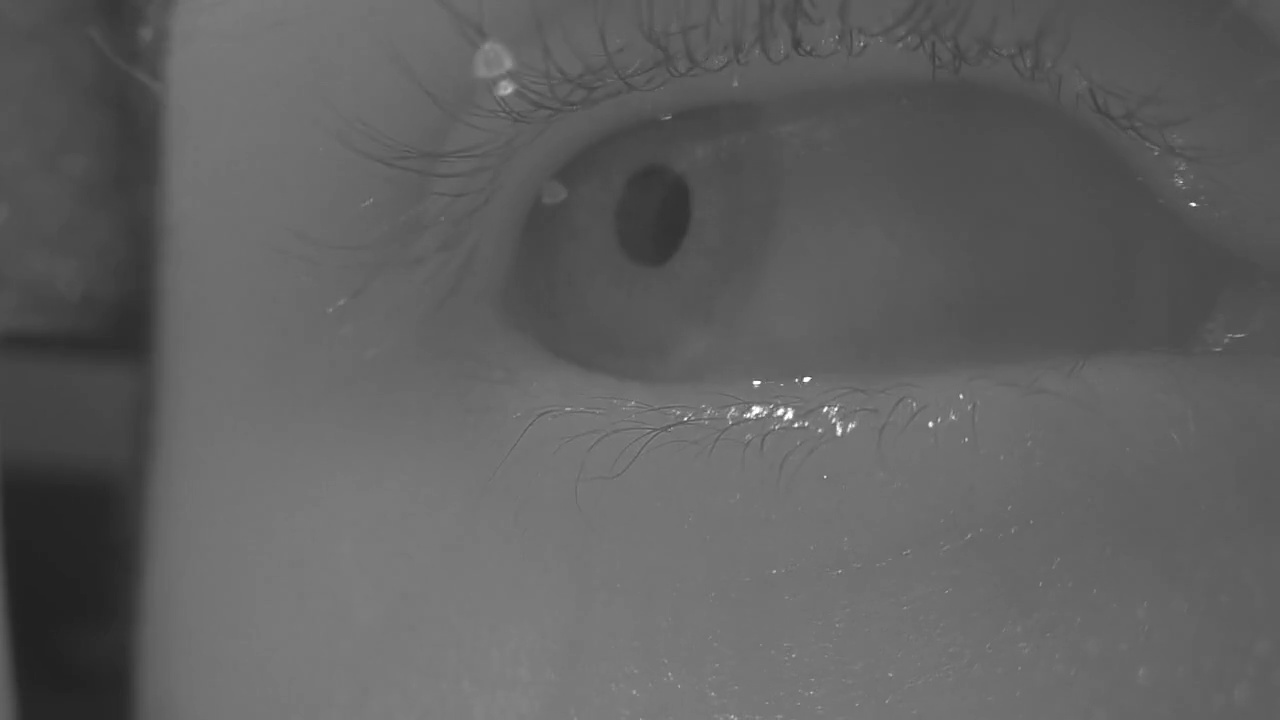pupil: (616, 164, 689, 266)
